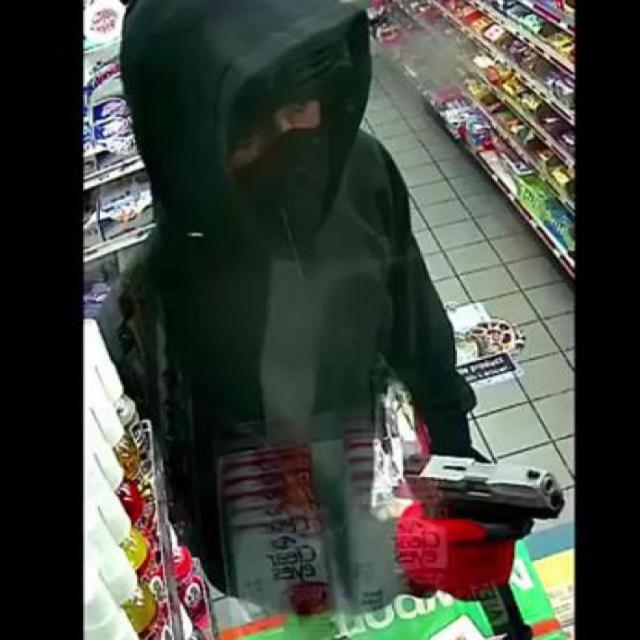pistol: (390, 443, 564, 591)
